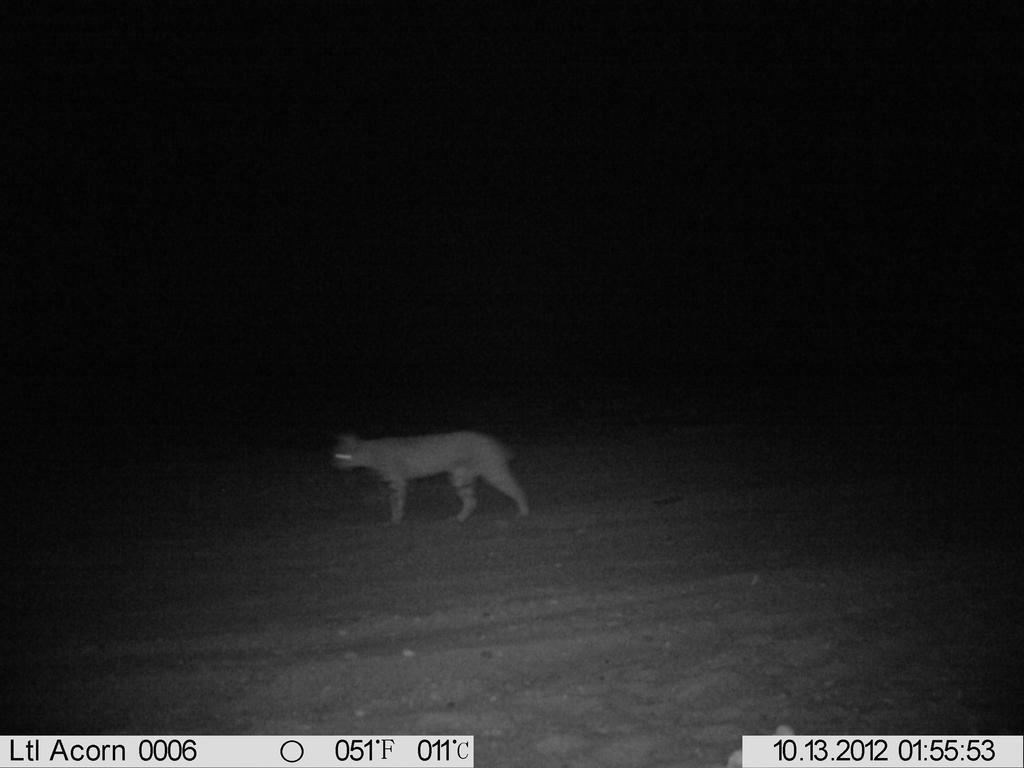bobcat: (323, 423, 545, 523)
